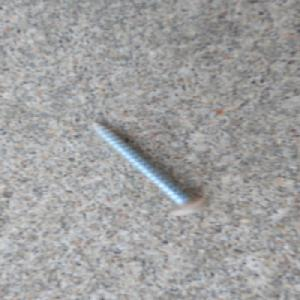Screw: (87, 119, 211, 219)
